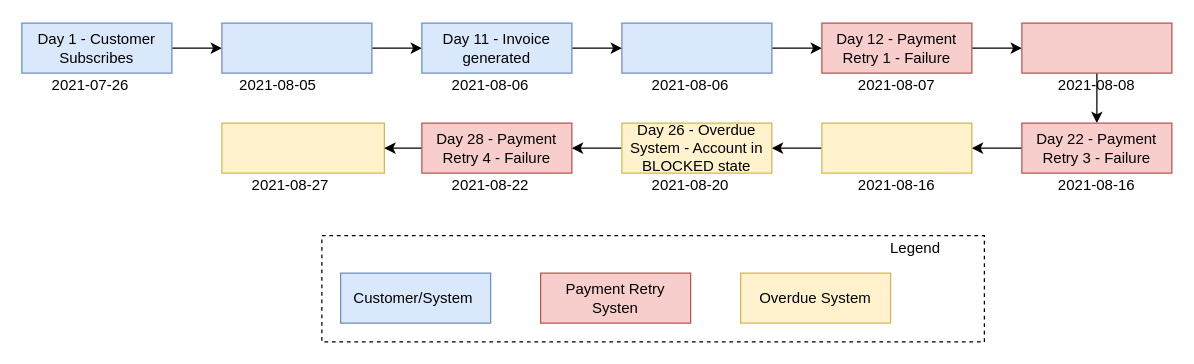
Image size: 1194x364. Some labels were removed from this diagram. The box of each missing label's shape, as (x1, y1, x2, y2) in pixels:
Day 10 - Trial Ends: (221, 22, 372, 73)
Day 11 - Payment failure due to card issue: (621, 22, 772, 73)
Day 13 - Payment Retry 2 - Failure: (1021, 22, 1172, 73)
Day 22 - Overdue System - Account in WARNING state: (821, 122, 972, 173)
Day 33 - Overdue System, Account in CANCELLATION state: (221, 122, 384, 173)
